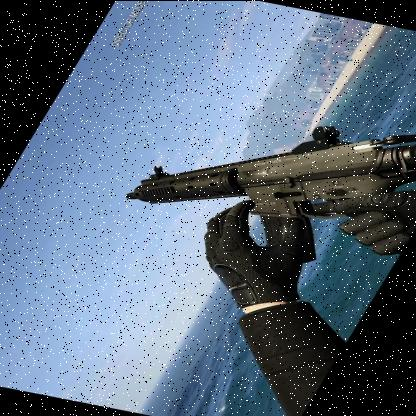rifle: (96, 68, 416, 272)
